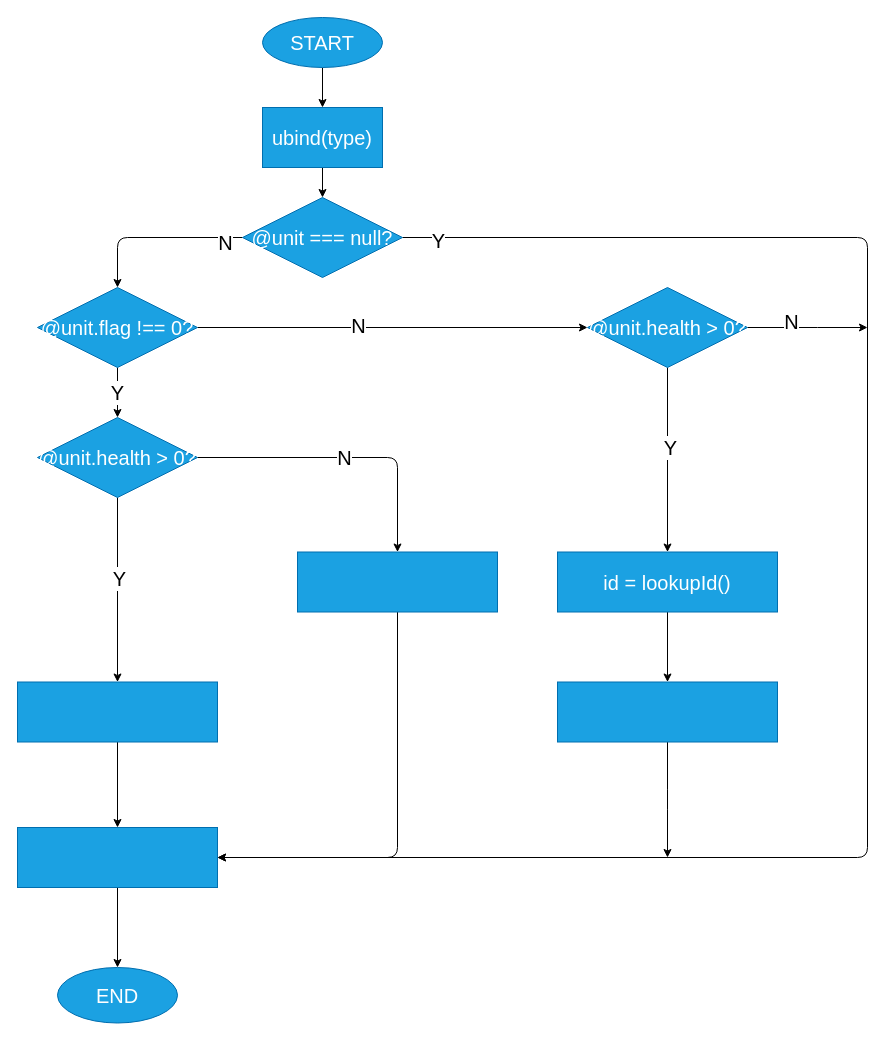
Image size: 893x1041. Some labels were removed from this diagram. Each missing label, with the box of its shape:
MEM[1-24] -= 1: (16, 826, 218, 888)
MEM[@unit.flag] = 0: (296, 551, 498, 612)
MEM[@unit.flag] = 50: (16, 681, 218, 742)
MEM[id] = 50: (556, 681, 778, 742)
